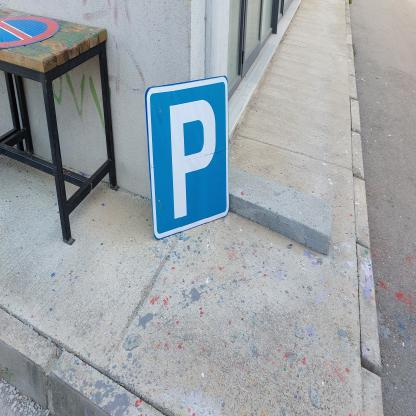parking: (145, 74, 230, 238)
